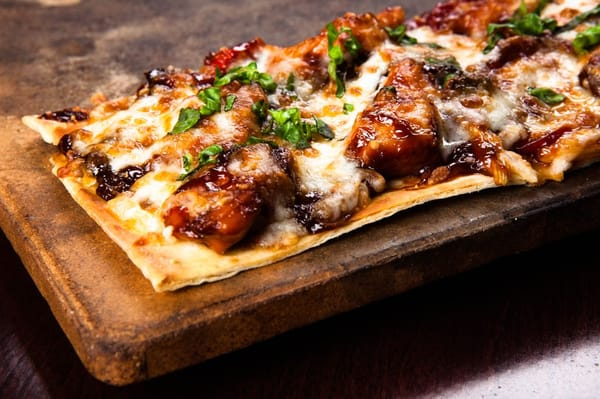sandwich: (39, 0, 597, 298)
